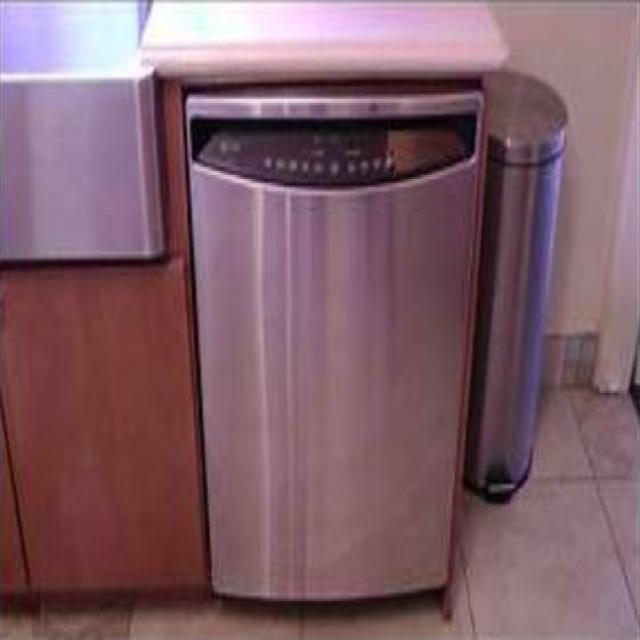dishwasher: (182, 82, 482, 605)
